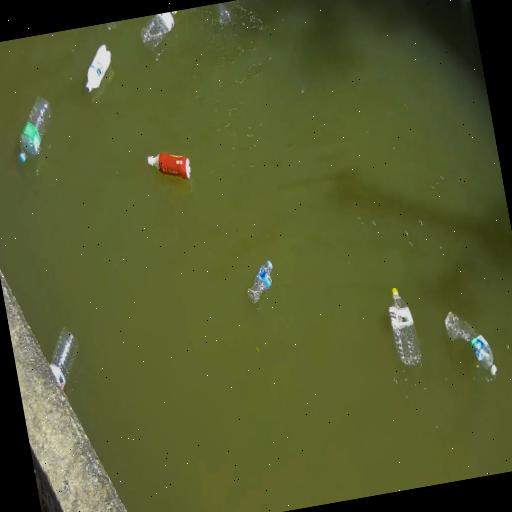plastic: (444, 313, 496, 375), (388, 288, 420, 366), (19, 97, 50, 162), (49, 328, 77, 389), (140, 11, 176, 51), (85, 45, 110, 92), (147, 153, 190, 180), (247, 261, 272, 303), (213, 2, 230, 25)
